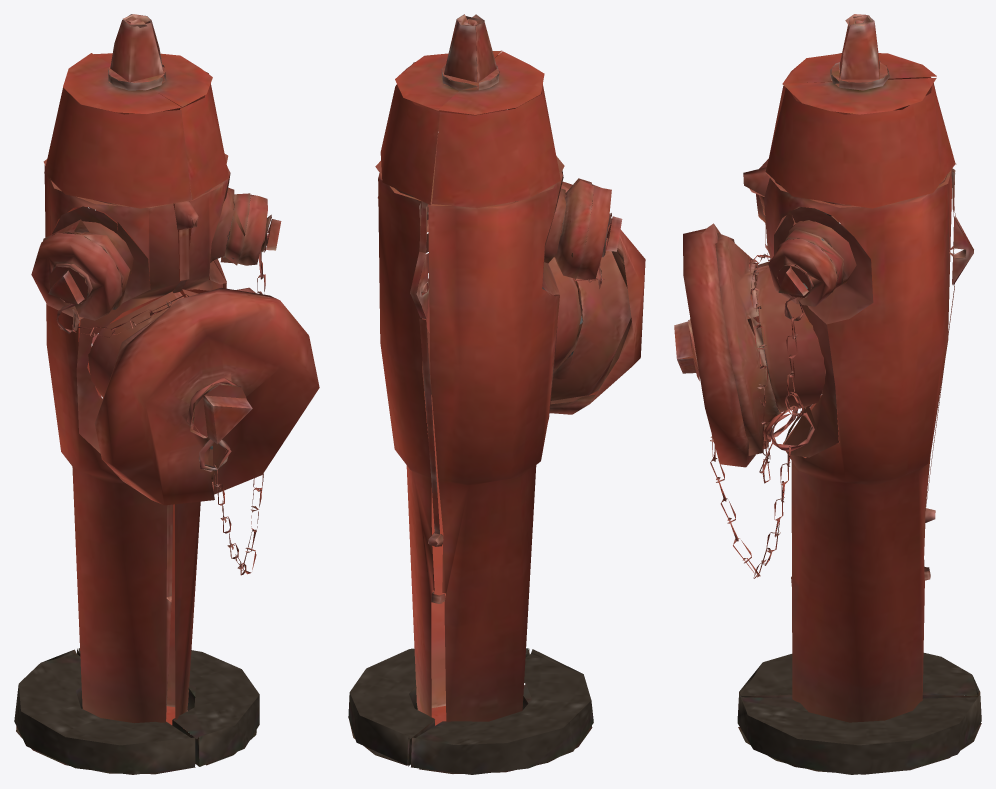
Rendered from fire_hydrant.glb.
The picture shows the model from 3 angles, left to right: view 1: azimuth 30°, elevation 25°; view 2: azimuth 150°, elevation 25°; view 3: azimuth 270°, elevation 25°; orthographic projection.
Parts seen in each view (by area): view 1: fire_hydrant, fire_hydrant_cap_01, fire_hydrant_cap_03, fire_hydrant_chain, fire_hydrant_cap_02; view 2: fire_hydrant, fire_hydrant_cap_01, fire_hydrant_cap_03; view 3: fire_hydrant, fire_hydrant_cap_01, fire_hydrant_chain, fire_hydrant_cap_02.
Part boxes in pixels (x1,y1,x2,y2): fire_hydrant: [14, 14, 259, 774]; fire_hydrant_cap_01: [94, 288, 319, 505]; fire_hydrant_cap_03: [31, 232, 122, 320]; fire_hydrant_chain: [55, 218, 266, 575]; fire_hydrant_cap_02: [238, 194, 281, 265]; fire_hydrant: [348, 14, 631, 774]; fire_hydrant_cap_01: [549, 181, 645, 414]; fire_hydrant_cap_03: [576, 184, 622, 279]; fire_hydrant: [715, 14, 981, 774]; fire_hydrant_cap_01: [674, 223, 755, 467]; fire_hydrant_chain: [710, 253, 814, 578]; fire_hydrant_cap_02: [768, 238, 837, 306].
Bounding box in the file's own units: 0.2742 × 0.8004 × 0.3173.
Materials: 1 (1 with a texture image).
